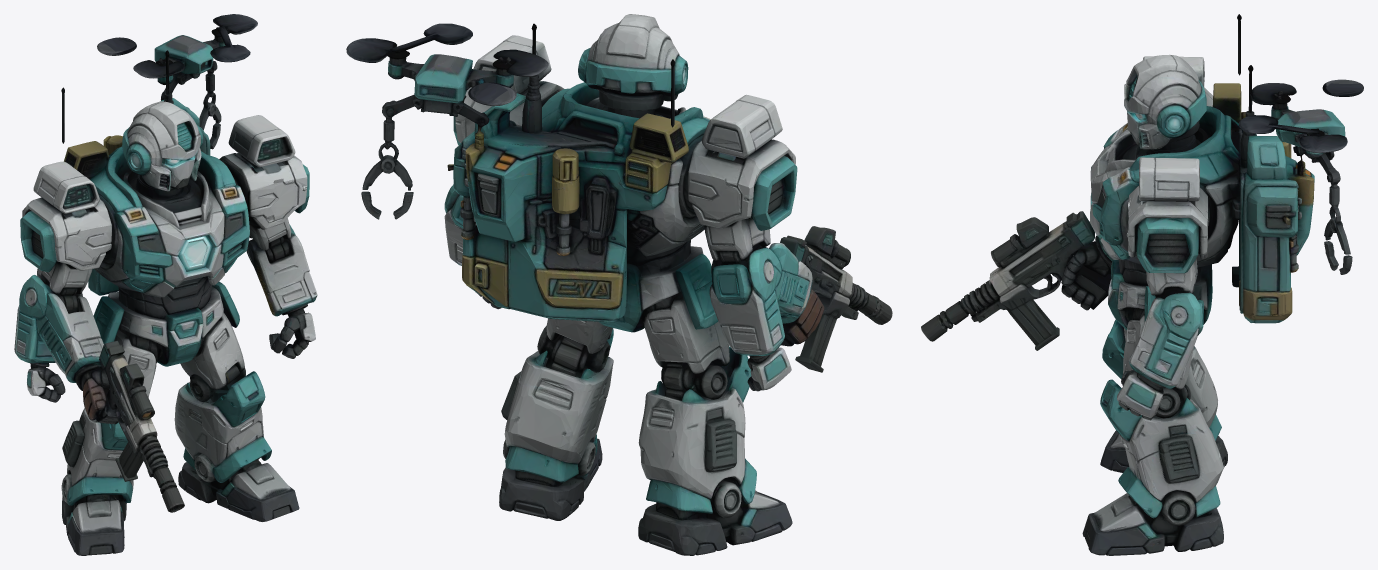
Rendered from fortress-robot.glb.
The picture shows the model from 3 angles, left to right: view 1: azimuth 30°, elevation 25°; view 2: azimuth 150°, elevation 25°; view 3: azimuth 270°, elevation 25°; orthographic projection. The views are drawn at different scales.
Visible parts, largest first — view 1: geometry_0; view 2: geometry_0; view 3: geometry_0.
Boxes of the visible parts, x1=… form: geometry_0: x1=14, y1=14, x2=317, y2=555; geometry_0: x1=346, y1=14, x2=892, y2=555; geometry_0: x1=921, y1=14, x2=1363, y2=555.
Size of the model in its own units: 0.7215 by 0.9997 by 0.8638.
1 material, 1 textured.
